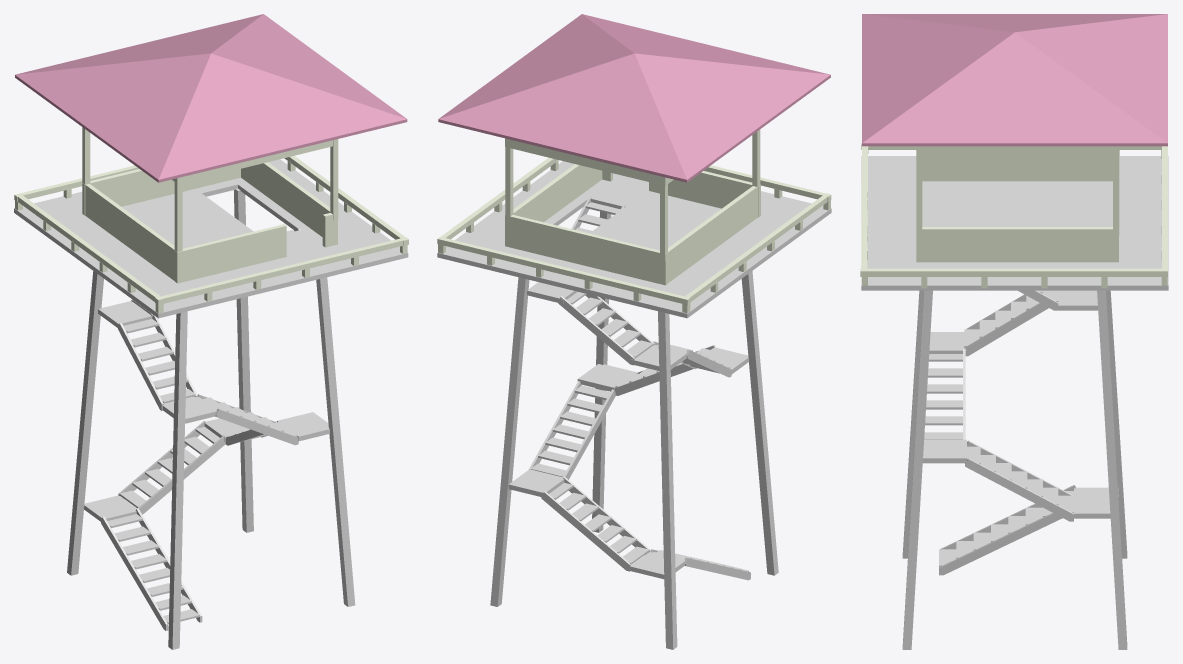
The model's file is firetower.glb.
3 renders of one model, left to right at view 1: azimuth 30°, elevation 25°; view 2: azimuth 150°, elevation 25°; view 3: azimuth 270°, elevation 25°, orthographic. The views are drawn at different scales.
Visible parts, largest first — view 1: Cube.006, Cube, Cube.009, BagaPie_StairLinear, Cube.023, Cube.003, Cube.004, Cube.001, Cube.002; view 2: Cube.006, Cube, BagaPie_StairLinear, Cube.009, Cube.023, Cube.001, Cube.002, Cube.003, Cube.004; view 3: Cube.006, Cube, Cube.009, BagaPie_StairLinear, Cube.023, Cube.002, Cube.004, Cube.003, Cube.001.
Part boxes in pixels (box(x1,y1,x2,y2)): Cube.006: box(15, 14, 407, 182); Cube: box(14, 159, 408, 318); Cube.009: box(82, 127, 338, 283); BagaPie_StairLinear: box(84, 228, 330, 630); Cube.023: box(14, 155, 408, 313); Cube.003: box(168, 311, 187, 649); Cube.004: box(316, 277, 355, 606); Cube.001: box(67, 271, 103, 575); Cube.002: box(234, 188, 253, 532); Cube.006: box(438, 14, 830, 182); Cube: box(437, 161, 831, 318); BagaPie_StairLinear: box(508, 196, 750, 580); Cube.009: box(505, 129, 760, 285); Cube.023: box(437, 157, 831, 313); Cube.001: box(658, 311, 677, 649); Cube.002: box(490, 277, 529, 606); Cube.003: box(741, 271, 778, 575); Cube.004: box(592, 211, 611, 532); Cube.006: box(862, 14, 1167, 146); Cube: box(861, 156, 1168, 290); Cube.009: box(916, 146, 1119, 262); BagaPie_StairLinear: box(922, 290, 1118, 575); Cube.023: box(860, 141, 1167, 288); Cube.002: box(1097, 290, 1127, 649); Cube.004: box(902, 290, 932, 649); Cube.003: box(902, 290, 923, 558); Cube.001: box(1106, 290, 1127, 558).
Size of what is drawn, in the model's own units: 6.92 by 14.15 by 6.93.
